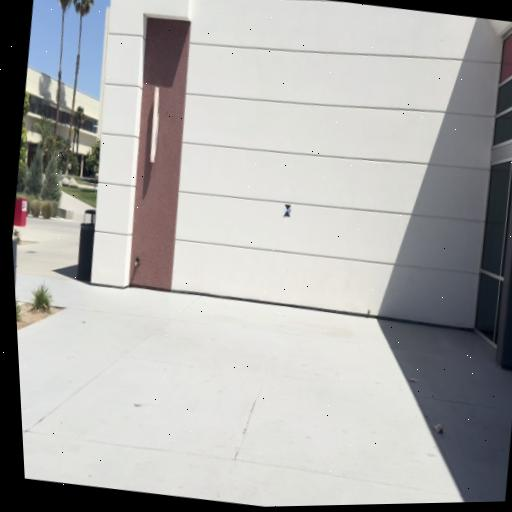target0: (283, 204, 292, 217)
